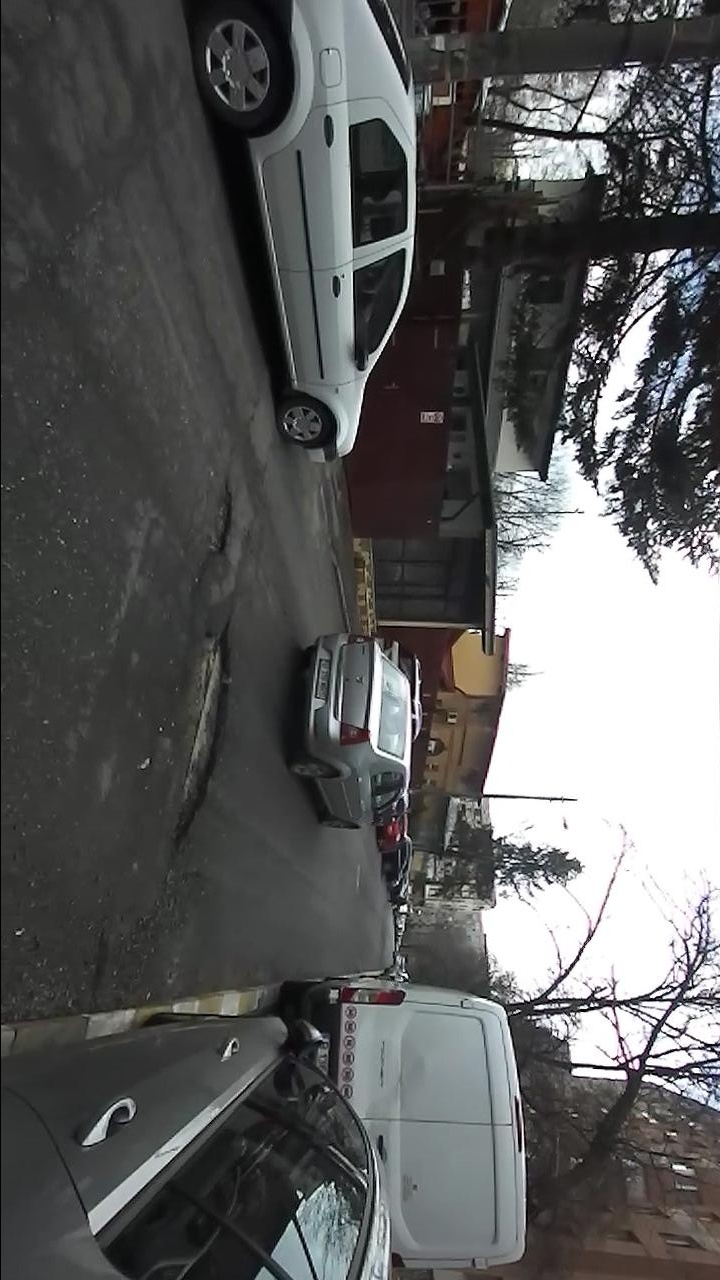pothole: (162, 619, 237, 861), (198, 477, 237, 567)
